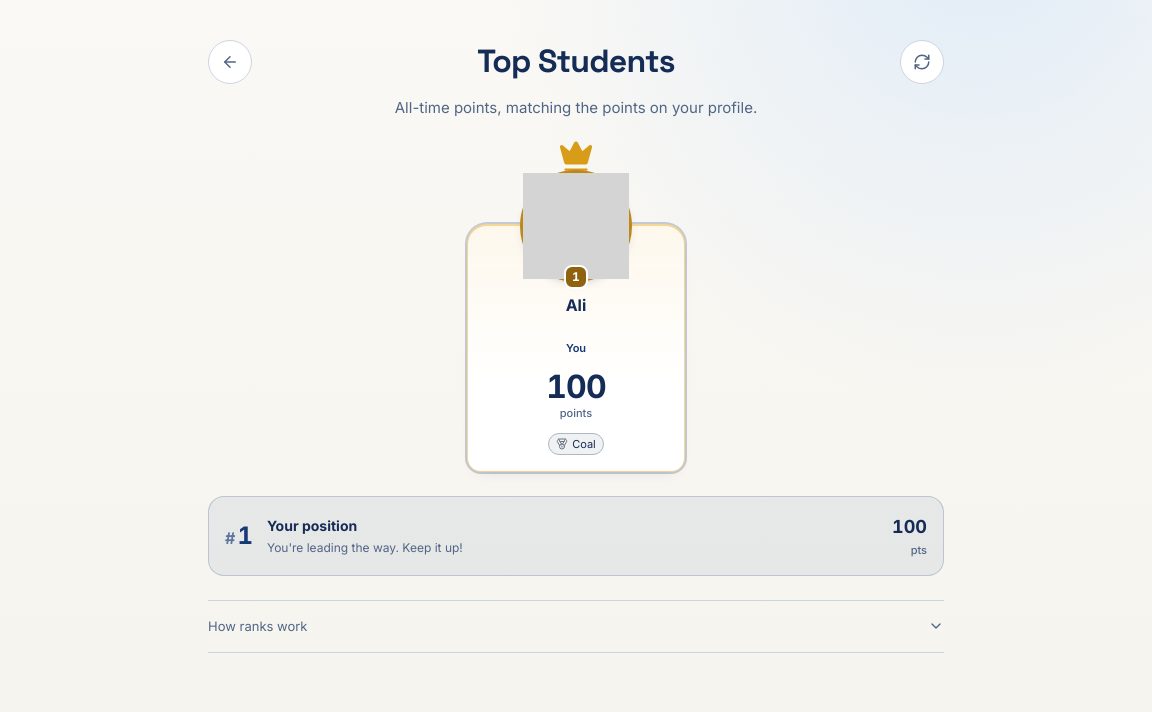
Test: Leaderboard data and profile integration › does not publish partial or failed point totals over a complete cached board
The image size is (1152, 712).
Expected: the button with aria-label "Ali's profile" is shown, [467,224,685,472]
Click the button named "Refresh points" at (922, 62), box [900,40,944,84]
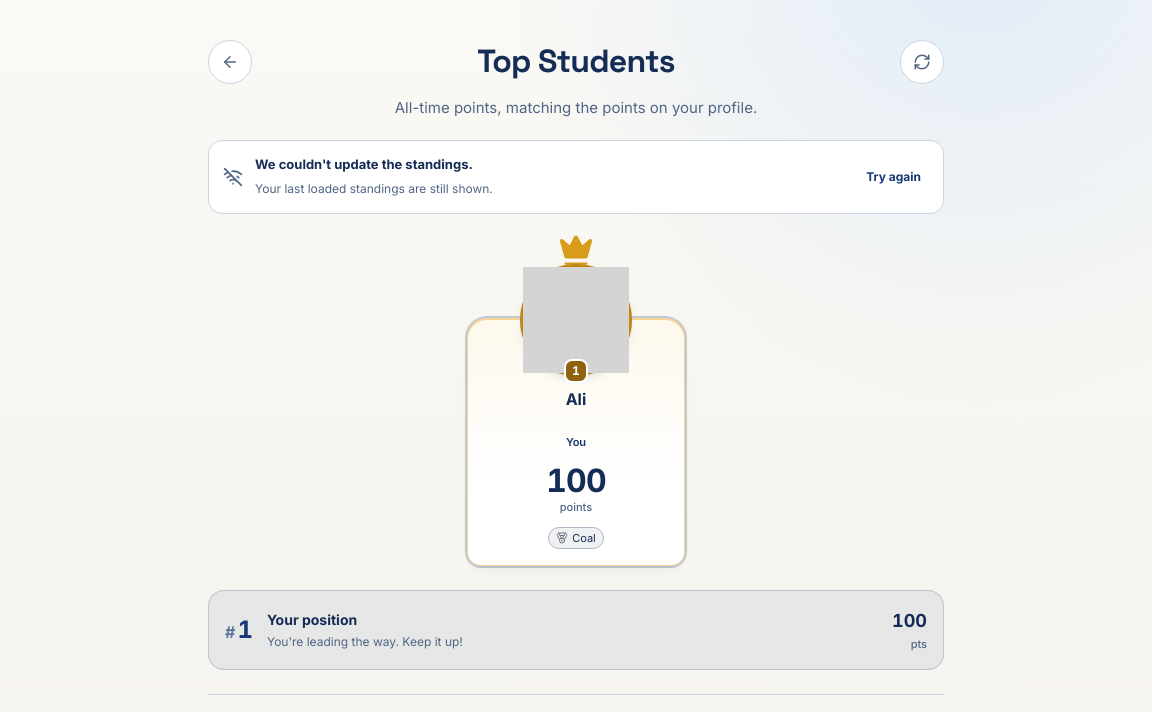
Expected: the button with aria-label "Ali's profile, place 1, 100 points" is shown, [467,318,685,566]
Expected: the message shows "couldn't update", [255,156,473,172]
